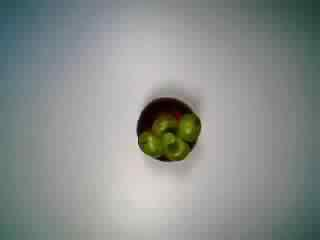mangosteen: (121, 92, 204, 167)
